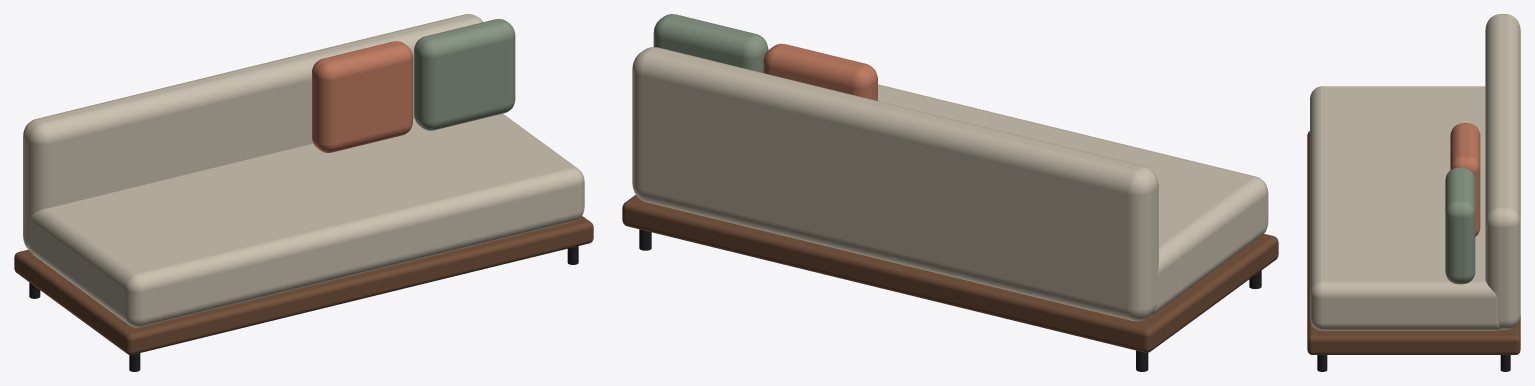
Rendered from vintage_day_bed.gltf.
3 views of the same model, side by side, from view 1: azimuth 30°, elevation 25°; view 2: azimuth 150°, elevation 25°; view 3: azimuth 270°, elevation 25° (orthographic). The views are drawn at different scales.
Parts seen in each view (by area): view 1: vintage_day_bed; view 2: vintage_day_bed; view 3: vintage_day_bed.
Boxes of the visible parts, x1,y1,x2,y2 form: vintage_day_bed: (14,14,593,371); vintage_day_bed: (622,14,1278,371); vintage_day_bed: (1307,14,1520,371).
Bounding box in the file's own units: 1.97 × 0.75 × 0.85.
